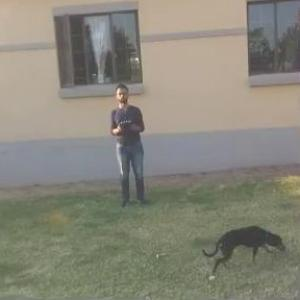follow: (108, 82, 149, 212)
null: (200, 219, 293, 278)
